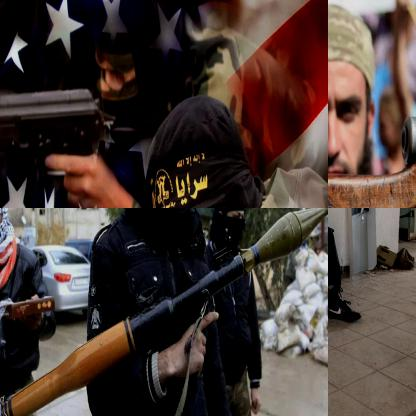rifle: (0, 208, 327, 415), (0, 74, 110, 182), (328, 106, 415, 207)
